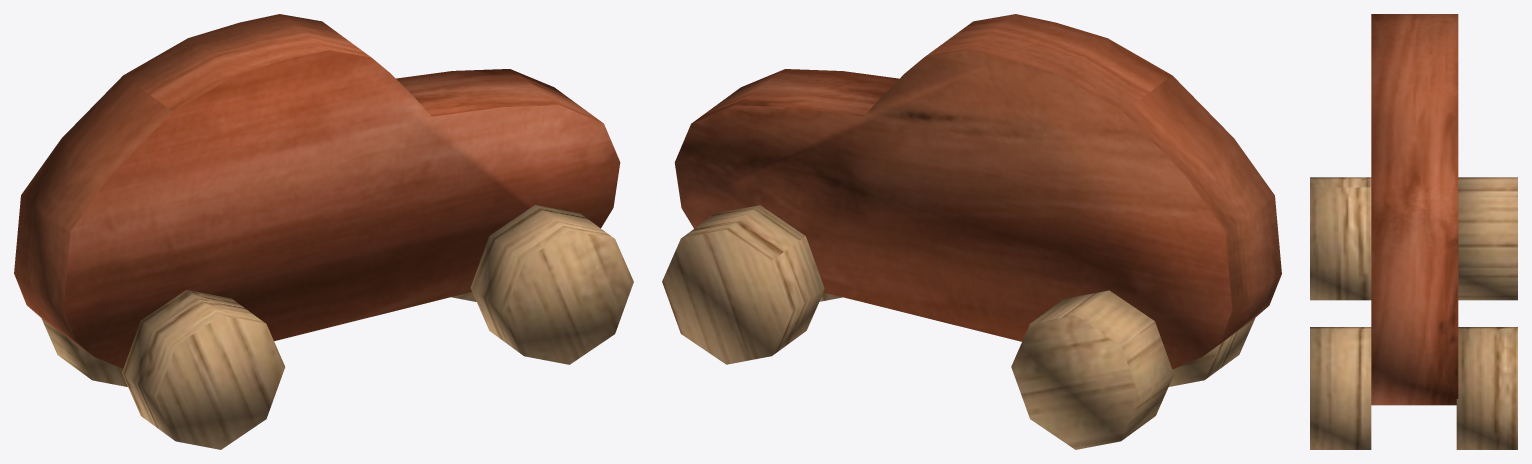
File: toy_car.FBX
3 renders of one model, left to right at view 1: azimuth 30°, elevation 25°; view 2: azimuth 150°, elevation 25°; view 3: azimuth 270°, elevation 25°, orthographic. The views are drawn at different scales.
Parts seen in each view (by area): view 1: Line004; view 2: Line004; view 3: Line004.
Part boxes in pixels (box(x1,y1,x2,y2)): Line004: box(14, 14, 633, 449); Line004: box(662, 14, 1281, 449); Line004: box(1310, 14, 1517, 449).
Bounding box in the file's own units: 279 × 163 × 102.
1 material, 1 textured.
